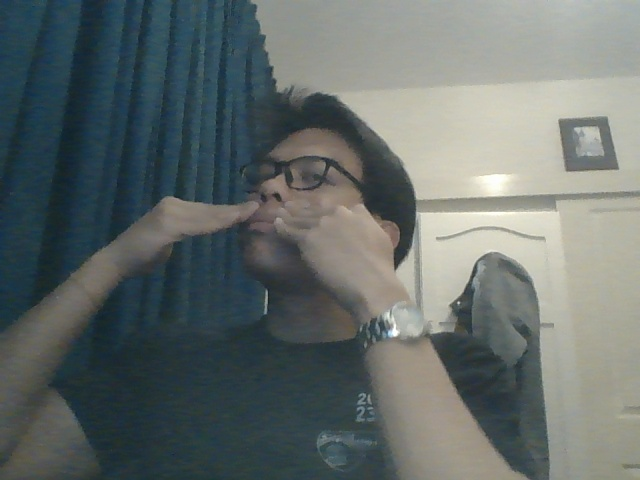ThankYou: (114, 193, 396, 283)
